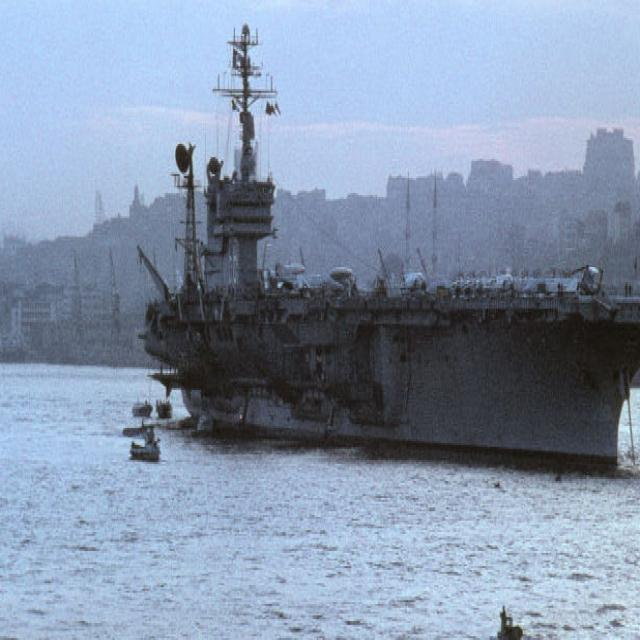Portanaves: (137, 3, 640, 480)
